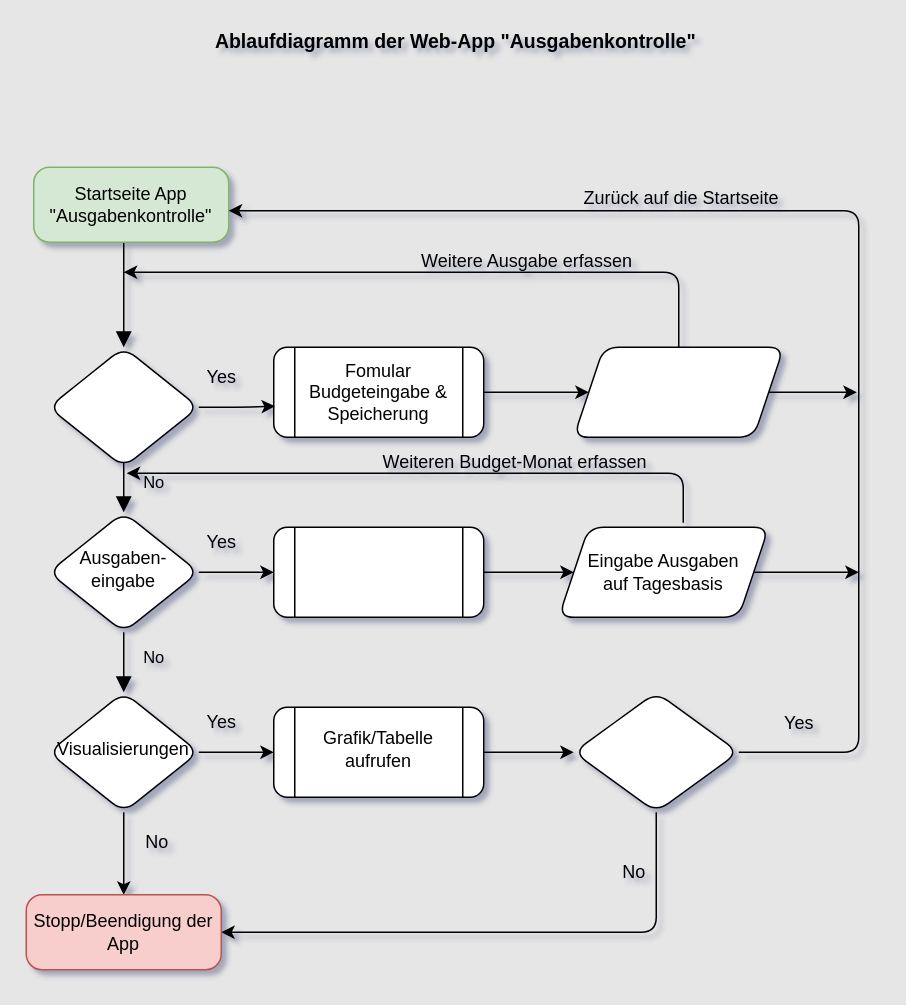
Some shapes in this 906 by 1005 pixel diagram are drawn without their labels. Here are the shapes that lost their labels. From the top down, the centre of each, then its label:
the point at 123,406: Budget- eingabe
the point at 678,391: Eingabe Budget pro Monat
the point at 378,571: Formular Ausgabeneingabe & Speicherung
the point at 655,751: Weitere Eingaben
